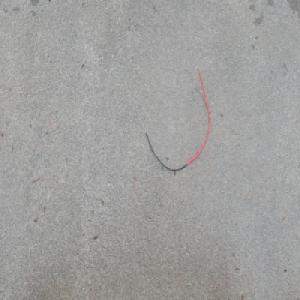Wire: (137, 60, 211, 172)
